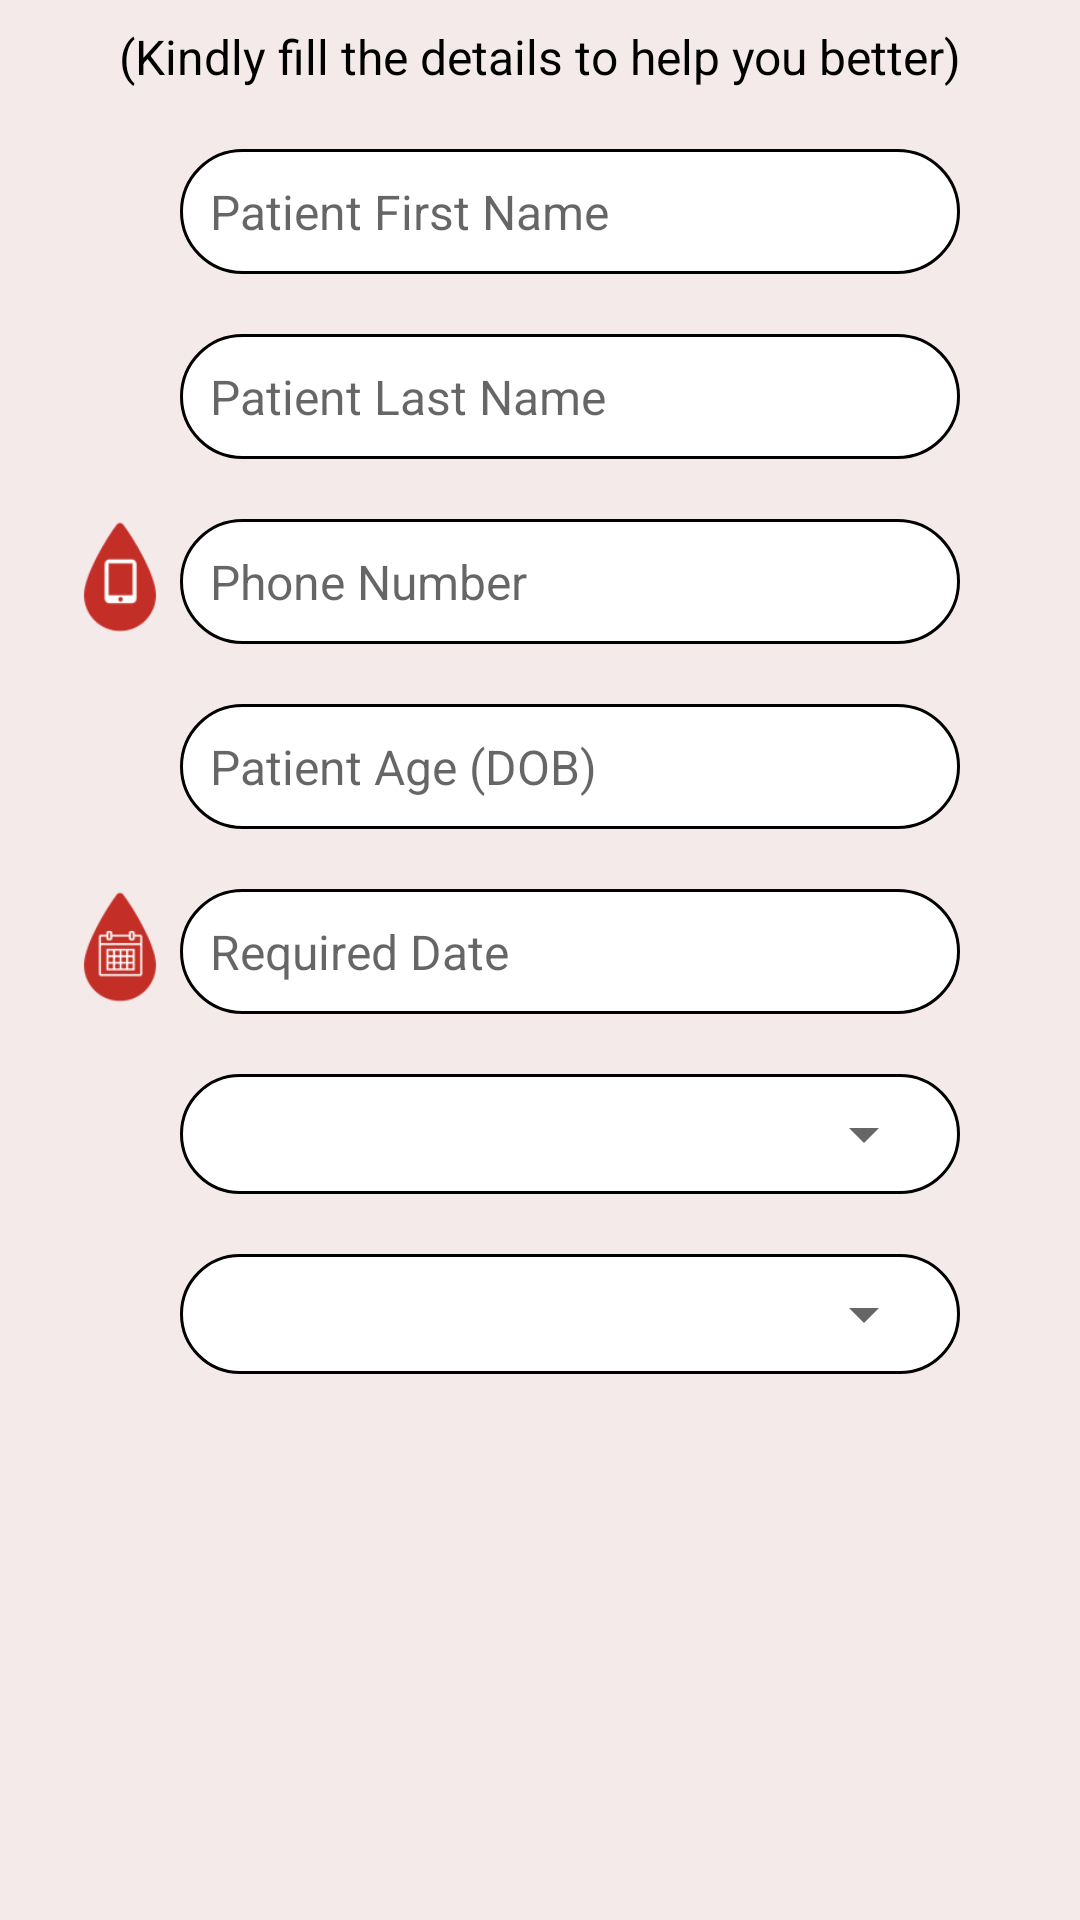

Where to tap for icons on this 1080×1920 app screen, as (x=x, y=y):
calender blood: (x=120, y=947)
contact blood: (x=120, y=577)
